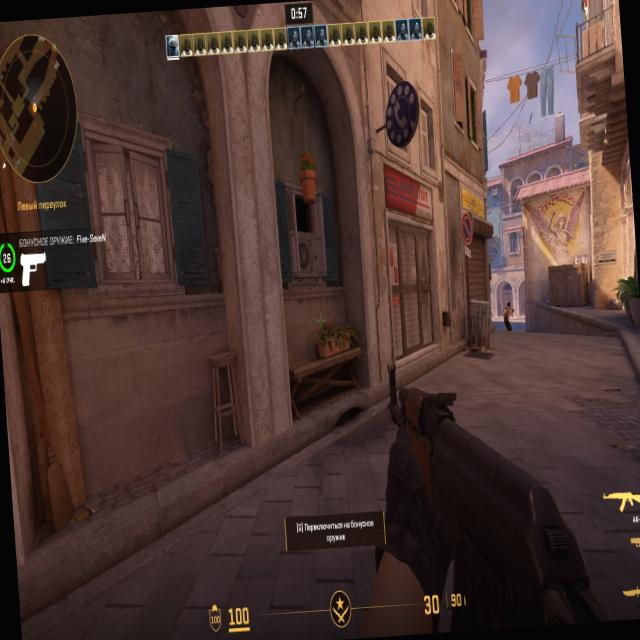T: (504, 301, 512, 327)
T_heat: (506, 303, 508, 307)
